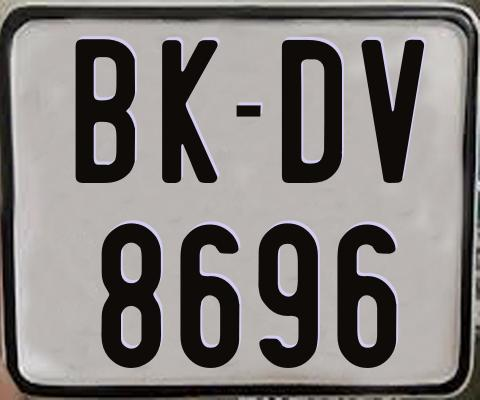6: (178, 223, 240, 373), (336, 223, 396, 370)
8: (100, 223, 161, 370)
9: (255, 222, 315, 373)
B: (75, 37, 138, 184)
D: (282, 38, 344, 185)
K: (160, 38, 222, 184)
V: (358, 40, 424, 184)
